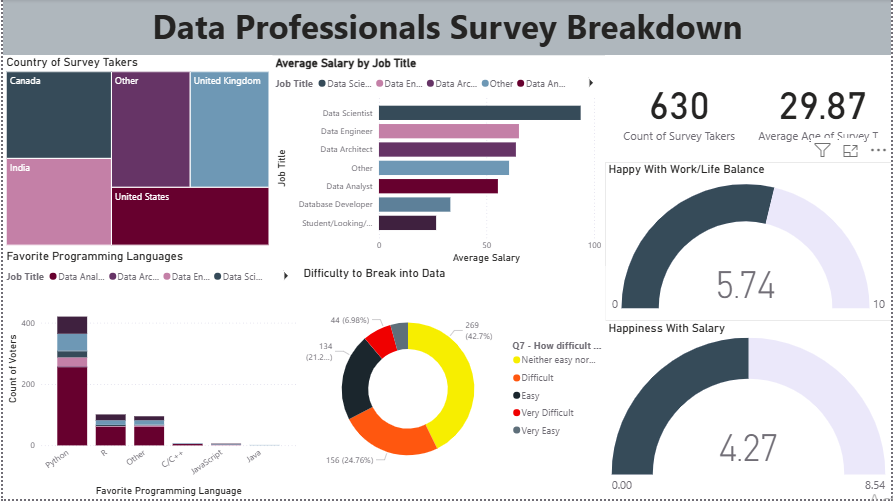

What the dashboard file says about the page in this screenshot:
{"tool":"powerbi","page":{"name":"Page 1","canvas":[1280,720],"ordinal":0},"visuals":[{"type":"textbox","box":[0,0,1280,80.6],"z":0},{"type":"card","fields":{"Values":["Count(Data Professional Survey.Unique ID)"]},"box":[866.8,80.6,213.3,154.5],"z":1000},{"type":"card","fields":{"Values":["Avg(Data Professional Survey.Q10 - Current Age)"]},"box":[1080.1,80.6,199.9,154.5],"z":2000},{"type":"barChart","title":"Average Salary by Job Title","fields":{"Category":["Data Professional Survey.Q1 - Which Title Best Fits your Current Role?.1"],"Y":["Avg(Data Professional Survey.Average Salary)"],"Series":["Data Professional Survey.Q1 - Which Title Best Fits your Current Role?.1"]},"box":[388,82.3,478.7,304],"z":3000},{"type":"columnChart","title":"Favorite Programming Languages","fields":{"Category":["Data Professional Survey.Q5 - Favorite Programming Language.1"],"Y":["CountNonNull(Data Professional Survey.Unique ID)"],"Series":["Data Professional Survey.Q1 - Which Title Best Fits your Current Role?.1"]},"box":[0,359.5,426.7,361.2],"z":4000},{"type":"treemap","title":"Country of Survey Takers","fields":{"Group":["Data Professional Survey.Q11 - Which Country do you live in?.1"],"Values":["Count(Data Professional Survey.Q11 - Which Country do you live in?.1)"]},"box":[0,80.6,388,278.8],"z":5000},{"type":"gauge","title":"Happy With Work/Life Balance","fields":{"Y":["Avg(Data Professional Survey.Q6 - How Happy are you in your Current Position with the following? (Work/Life Balance))"],"MinValue":["Min(Data Professional Survey.Q6 - How Happy are you in your Current Position with the following? (Work/Life Balance))"],"MaxValue":["Max(Data Professional Survey.Q6 - How Happy are you in your Current Position with the following? (Work/Life Balance))1"]},"box":[866.8,235.2,413.2,228.5],"z":6000},{"type":"gauge","title":"Happiness With Salary","fields":{"Y":["Avg(Data Professional Survey.Q6 - How Happy are you in your Current Position with the following? (Salary))"]},"box":[866.8,463.6,413.2,257],"z":7000},{"type":"donutChart","title":"Difficulty to Break into Data","fields":{"Category":["Data Professional Survey.Q7 - How difficult was it for you to break into Data?"],"Y":["CountNonNull(Data Professional Survey.Q7 - How difficult was it for you to break into Data?)"]},"box":[427,385,440,335],"z":8000}]}

Visuals, with their boxes in screenshot pixels (x1, y1, x2, y2), scaled from the page's 1280x720 canvas onto the 893x501 screenshot:
textbox: box(0, 0, 892, 56)
card - Count(Data Professional Survey.Unique ID): box(605, 56, 754, 164)
card - Avg(Data Professional Survey.Q10 - Current Age): box(754, 56, 892, 164)
"Average Salary by Job Title" barChart: box(271, 57, 605, 269)
"Favorite Programming Languages" columnChart: box(0, 250, 298, 500)
"Country of Survey Takers" treemap: box(0, 56, 271, 250)
"Happy With Work/Life Balance" gauge: box(605, 164, 892, 323)
"Happiness With Salary" gauge: box(605, 323, 892, 500)
"Difficulty to Break into Data" donutChart: box(298, 268, 605, 500)
